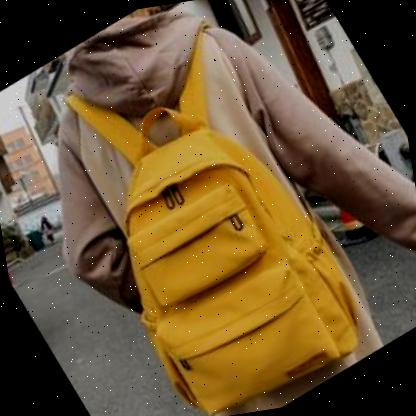bag: (78, 62, 382, 416)
